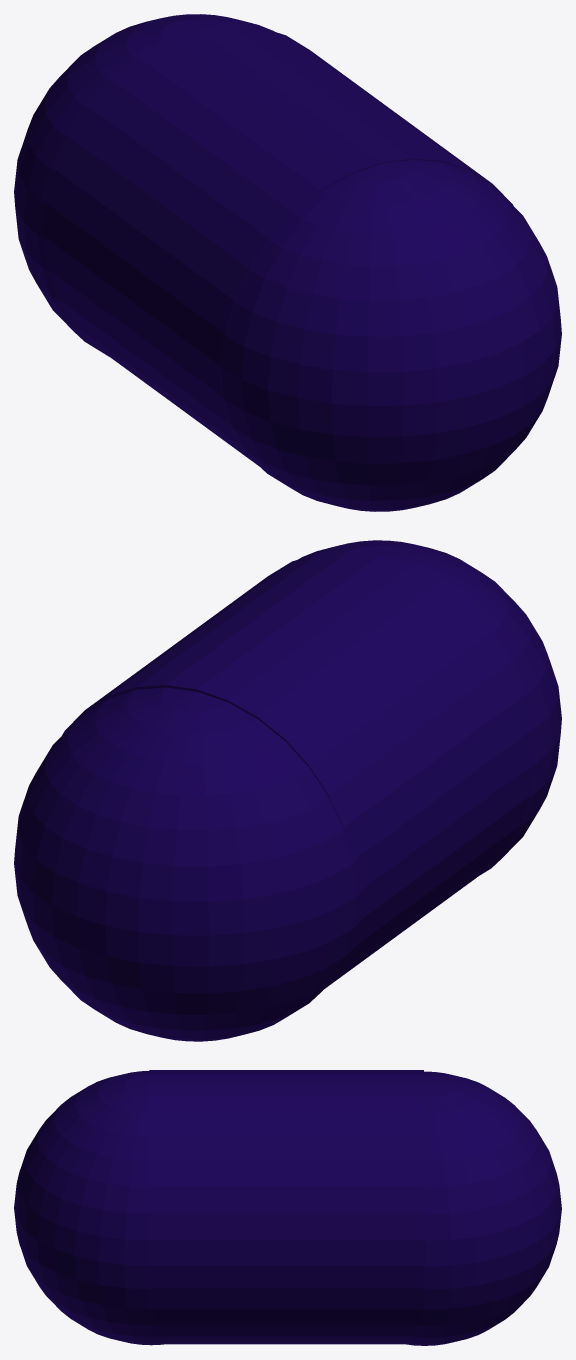
The model's file is submarine.obj.
The picture shows the model from 3 angles, top to bottom: view 1: azimuth 30°, elevation 25°; view 2: azimuth 150°, elevation 25°; view 3: azimuth 270°, elevation 25°; orthographic projection. The views are drawn at different scales.
Parts seen in each view (by area): view 1: Sphere.001_Sphere.002; view 2: Sphere.001_Sphere.002; view 3: Sphere.001_Sphere.002.
Boxes of the visible parts, box(x1,y1,x2,y2) form: Sphere.001_Sphere.002: box(14, 14, 561, 511); Sphere.001_Sphere.002: box(14, 540, 561, 1041); Sphere.001_Sphere.002: box(14, 1070, 561, 1345).
Bounding box in the file's own units: 2 × 2.01 × 3.99.
